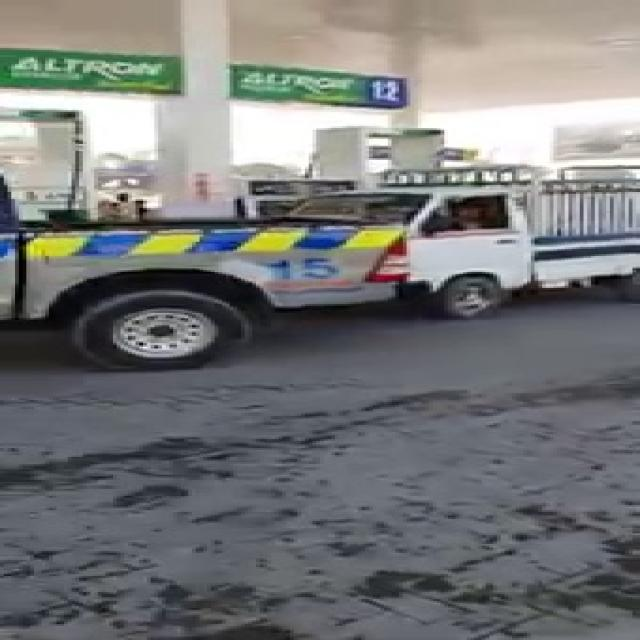police: (0, 160, 394, 367)
